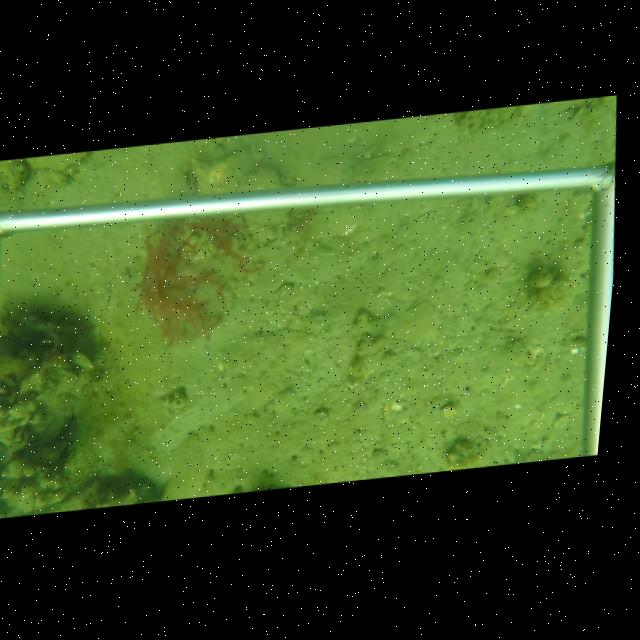Oyster-Indeterminate: (196, 145, 263, 189), (236, 167, 290, 189)
